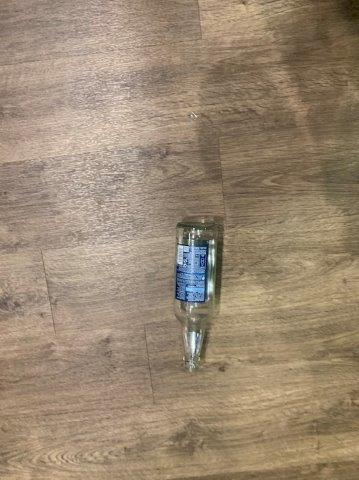botolkaca: (174, 223, 221, 373)
